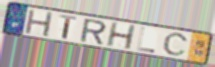C: (162, 32, 190, 57)
H: (105, 21, 138, 51), (23, 8, 55, 38)
L: (136, 26, 157, 55)
R: (79, 18, 108, 45)
T: (59, 14, 79, 41)
